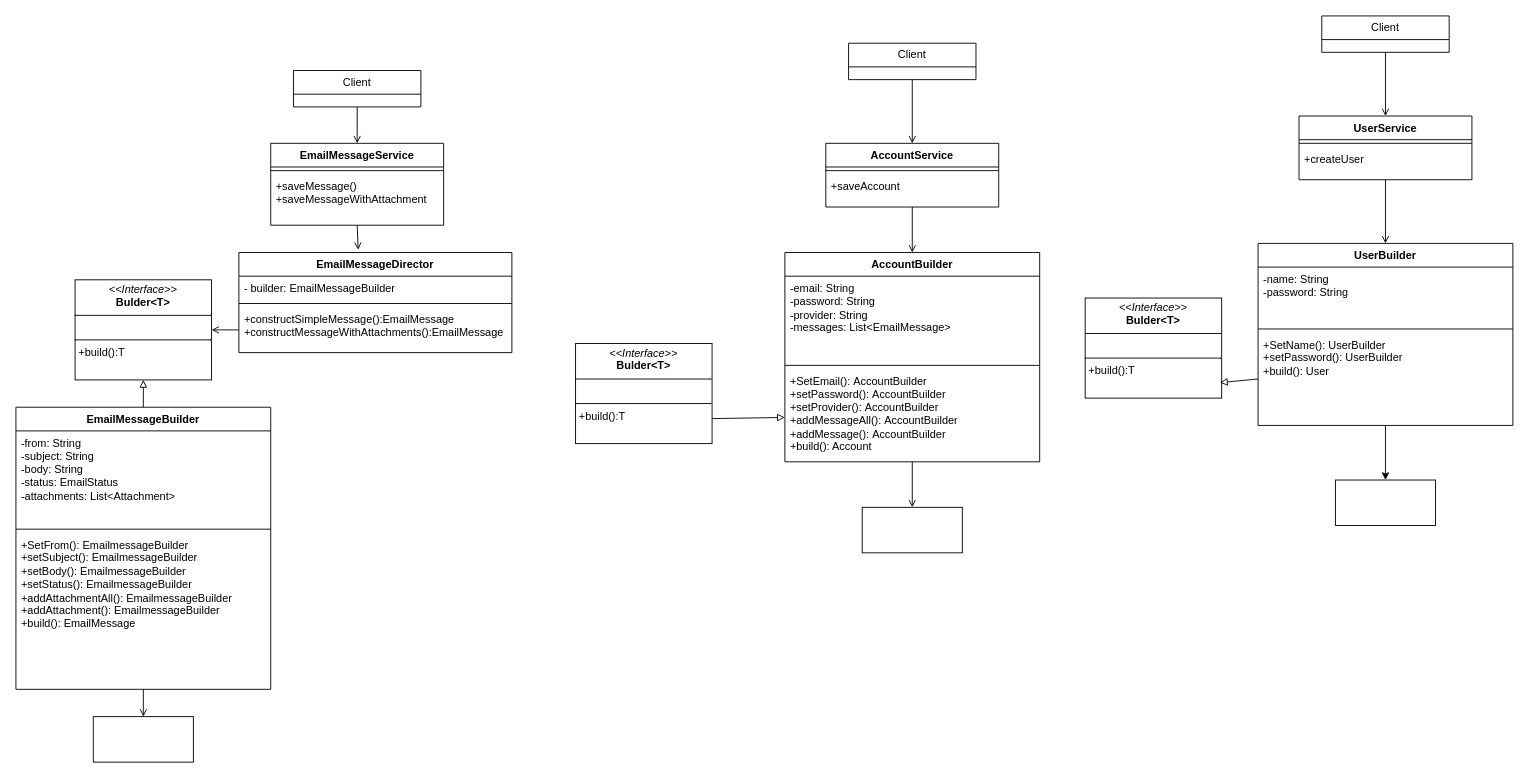
The diagram is 1529 pixels wide and 778 high, and some of its shapes have lost their labels. Each missing label, with the centre of its shape:
"Account" goes at (x=911, y=529).
"EmaiMessage" goes at (x=142, y=739).
"User" goes at (x=1385, y=502).
